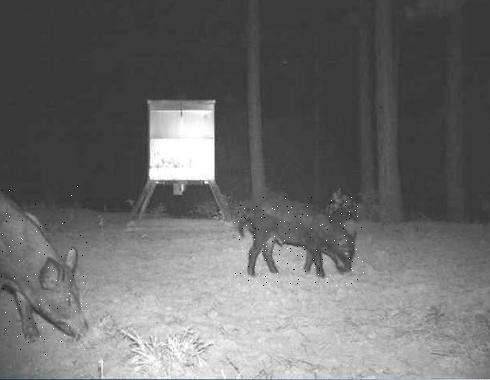Hog: (0, 184, 88, 355), (234, 196, 364, 286)
